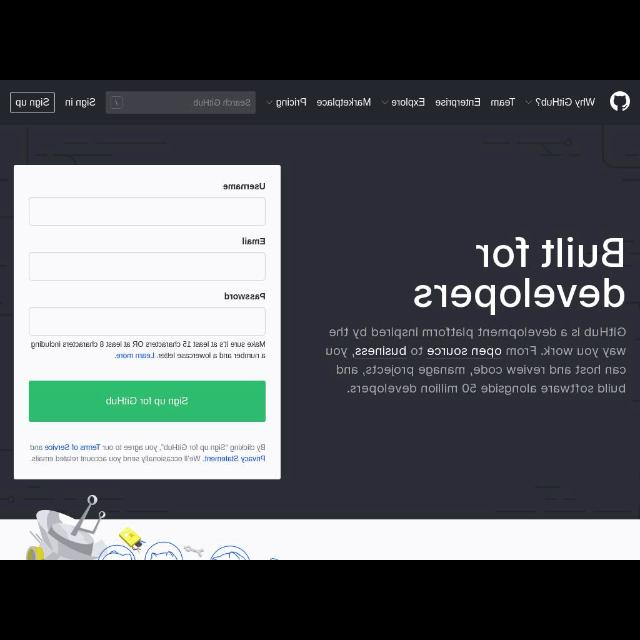button: (107, 90, 125, 112)
icon: (113, 95, 121, 111), (525, 98, 533, 110), (379, 99, 388, 108), (266, 98, 272, 105)
image: (610, 87, 632, 115)
input: (28, 250, 264, 282), (29, 197, 265, 227), (30, 308, 266, 336), (103, 90, 255, 116)
link: (202, 455, 262, 465), (45, 442, 103, 452), (116, 353, 152, 361)
spinner: (522, 91, 598, 115), (377, 94, 427, 110), (262, 94, 308, 110)
text: (324, 324, 630, 398), (410, 228, 626, 310), (29, 338, 267, 362), (26, 444, 264, 464), (105, 395, 188, 409), (315, 96, 369, 110), (538, 95, 596, 108), (192, 97, 252, 109), (434, 98, 480, 112), (220, 180, 266, 192), (64, 94, 96, 110), (223, 292, 265, 302), (240, 232, 266, 245), (391, 99, 427, 108), (275, 97, 307, 107), (12, 98, 50, 106), (492, 95, 514, 108)
textbutton: (30, 381, 266, 423), (8, 91, 54, 112)
toolbar: (4, 80, 640, 122)
